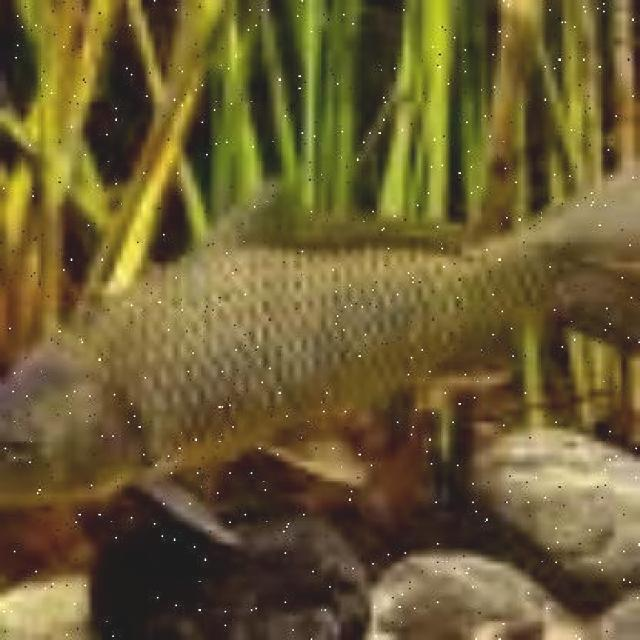ikan-mas: (0, 178, 634, 544)
